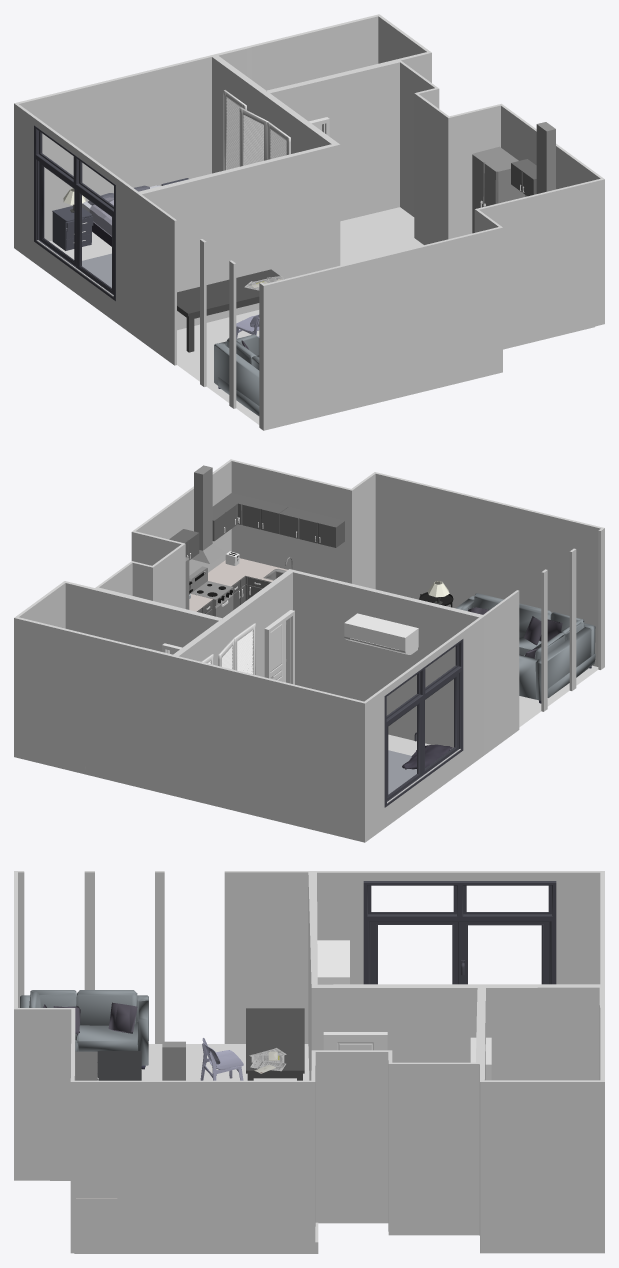
Rendered from FINAL_APARTMENT.fbx.
3 views of the same model, one above another, from view 1: azimuth 30°, elevation 25°; view 2: azimuth 150°, elevation 25°; view 3: azimuth 270°, elevation 25° (orthographic). The views are drawn at different scales.
Visible parts, largest first — view 1: walls, F_w_0, closet, couch, Table_M_Wood_0.001, 1fridge, 1stove, Bedside_Table_2_LP_Bedside_Table_1_0.001, bed, benchcupboard, carpet; view 2: walls, couch, benchcupboard, F_w_0, 1stove, AC_0, closet, frame_door_Cube, group1142142446, door, carpet, group1913738476.001 (+1 smaller); view 3: walls, F_w_0, couch, Table_M_Wood_0.001, AC_0, coffeetable, Cube_chair_0.001, 1stove, benchcupboard, door, frame_door_Cube.
Boxes of the visible parts, bbox=[...] form: walls: bbox=[14, 14, 604, 430]; F_w_0: bbox=[34, 125, 115, 301]; closet: bbox=[223, 90, 290, 170]; couch: bbox=[214, 334, 259, 415]; Table_M_Wood_0.001: bbox=[177, 269, 280, 352]; 1fridge: bbox=[472, 146, 524, 233]; 1stove: bbox=[536, 122, 555, 193]; Bedside_Table_2_LP_Bedside_Table_1_0.001: bbox=[52, 206, 93, 250]; bed: bbox=[82, 185, 160, 246]; benchcupboard: bbox=[511, 159, 557, 196]; carpet: bbox=[82, 253, 111, 287]; walls: bbox=[14, 459, 604, 842]; couch: bbox=[456, 593, 595, 703]; benchcupboard: bbox=[169, 493, 344, 560]; F_w_0: bbox=[384, 639, 463, 807]; 1stove: bbox=[189, 465, 233, 618]; AC_0: bbox=[344, 613, 418, 654]; closet: bbox=[201, 623, 255, 674]; frame_door_Cube: bbox=[264, 610, 294, 684]; group1142142446: bbox=[215, 558, 287, 600]; door: bbox=[270, 621, 286, 682]; carpet: bbox=[388, 750, 416, 794]; group1913738476.001: bbox=[208, 568, 245, 609]; walls: bbox=[14, 871, 604, 1253]; F_w_0: bbox=[363, 881, 556, 984]; couch: bbox=[20, 990, 148, 1069]; Table_M_Wood_0.001: bbox=[246, 1008, 304, 1080]; AC_0: bbox=[317, 940, 349, 984]; coffeetable: bbox=[97, 1051, 141, 1080]; Cube_chair_0.001: bbox=[200, 1038, 243, 1080]; 1stove: bbox=[162, 1041, 185, 1080]; benchcupboard: bbox=[75, 1051, 98, 1080]; door: bbox=[329, 1039, 381, 1050]; frame_door_Cube: bbox=[323, 1032, 387, 1050].
Bounding box in the file's own units: 649 × 289 × 767.
